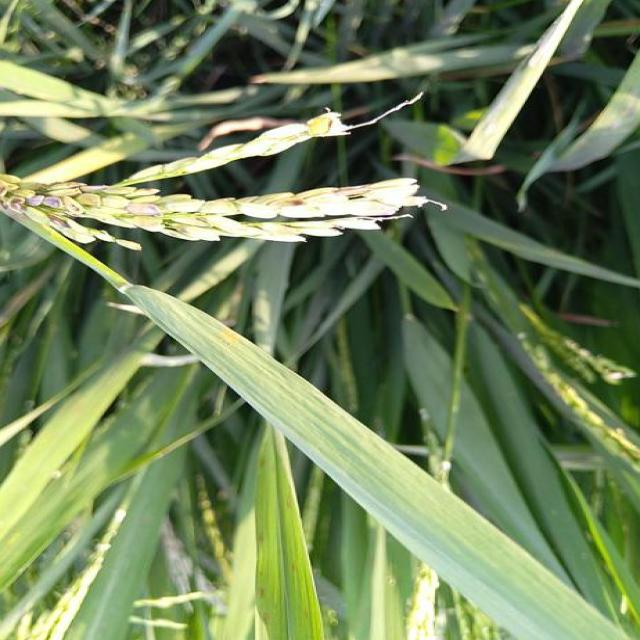Panicle Blight: (0, 182, 71, 228), (125, 202, 163, 215), (269, 196, 309, 208)
